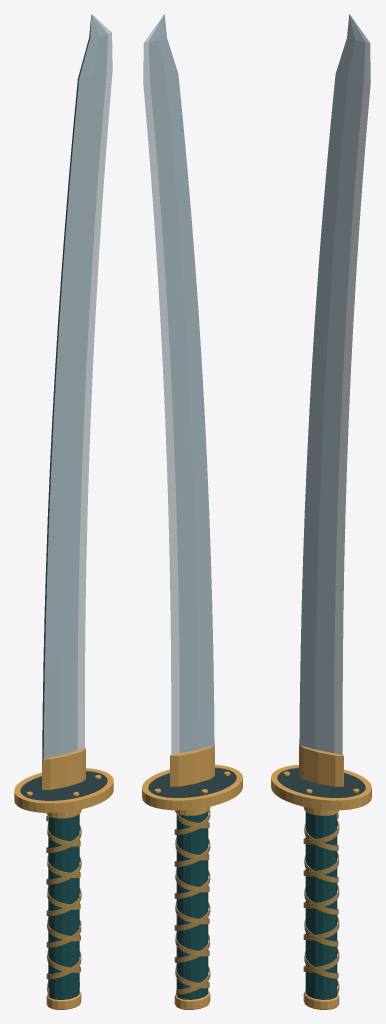
File: Katana_Prop.glb
3 views of the same model, side by side, from view 1: azimuth 30°, elevation 25°; view 2: azimuth 210°, elevation 25°; view 3: azimuth 330°, elevation 25° (orthographic).
Visible parts, largest first — view 1: Katana_Prop; view 2: Katana_Prop; view 3: Katana_Prop.
Part boxes in pixels (x1,y1,x2,y2): Katana_Prop: (14,14,113,1009); Katana_Prop: (142,14,242,1009); Katana_Prop: (271,14,371,1009).
Size of the model in its own units: 0.072 by 0.714 by 0.05.
